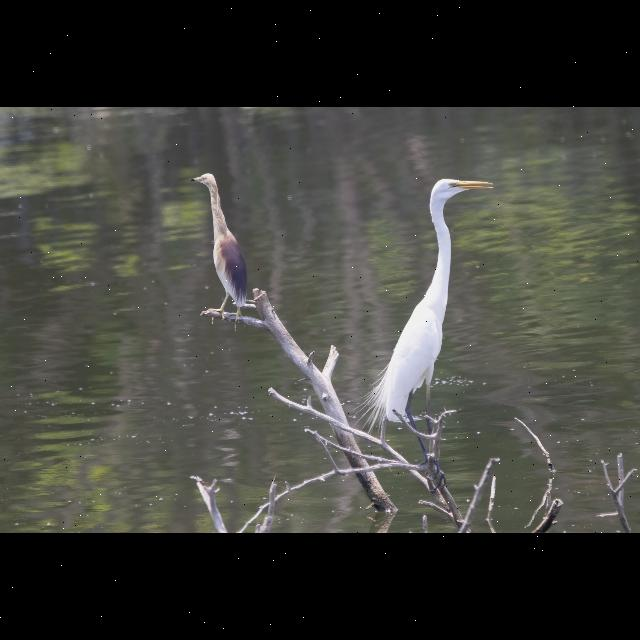egret: (350, 168, 500, 468), (187, 168, 261, 324)
